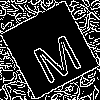M: (25, 25, 85, 85)
